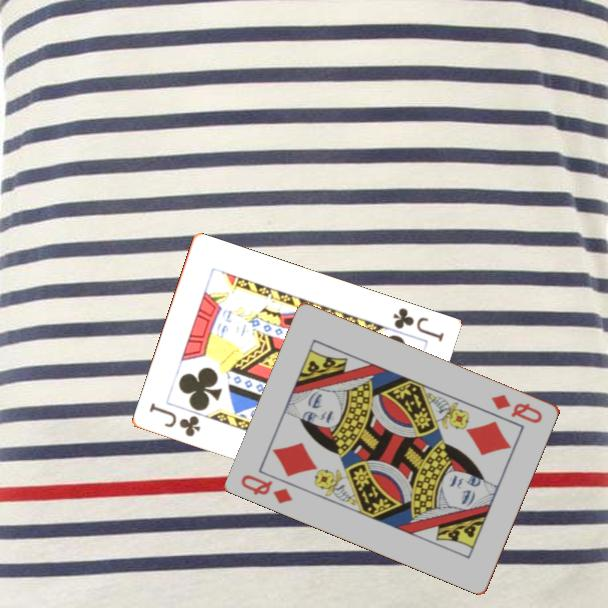c11: (145, 399, 203, 440), (389, 304, 446, 345)
d12: (488, 390, 546, 426), (238, 471, 296, 507)
